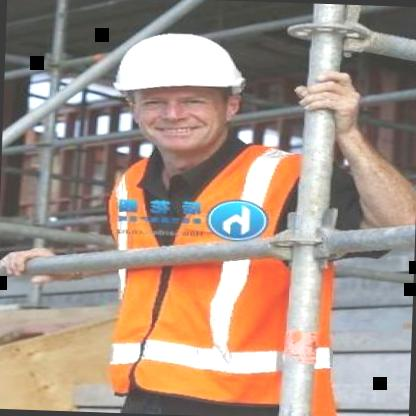helmet: (96, 19, 264, 166)
